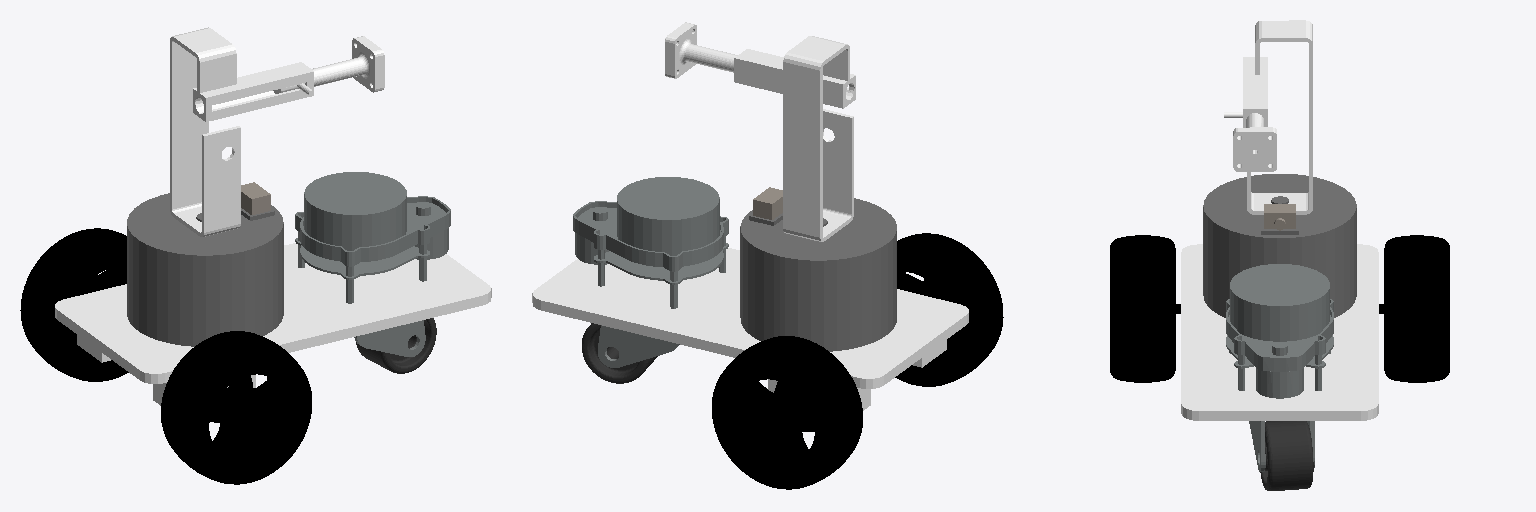
The robot description file, URDF, robot "robot1":
<?xml version="1.0" encoding="utf-8"?>
<robot
  name="robot1">

  <link name="extra_dummy_link"/>

  <joint name="extra_dummy_joint" type="fixed">
  <parent link="extra_dummy_link"/>
  <child link="base_link"/>
  <origin xyz="0 0 0.0508" rpy="0 0 0"/>
  </joint>

<!-- Mobile base -->
  <link
    name="base_link">
    <inertial>
      <origin
        xyz="-0.0298620435825472 8.64080561788216E-06 -0.0108665210140014"
        rpy="0 0 0" />
      <mass
        value="0.365881397075743" />
      <inertia
        ixx="7.80415881112915E-05"
        ixy="3.00753569781849E-08"
        ixz="-2.17816023522058E-07"
        iyy="0.000270323782878174"
        iyz="-3.13400981423434E-09"
        izz="0.000333087412608482" />
    </inertial>
    <visual>
      <origin
        xyz="0 0 0"
        rpy="0 0 0" />
      <geometry>
        <mesh
          filename="package://robot1/meshes/base_link.STL" />
      </geometry>
      <material
        name="">
        <color
          rgba="1 1 1 1" />
      </material>
    </visual>
    <collision>
      <origin
        xyz="0 0 0"
        rpy="0 0 0" />
      <geometry>
        <mesh
          filename="package://robot1/meshes/base_link.STL" />
      </geometry>
    </collision>
  </link>

<!-- Caster + Wheel (Rulet) -->
  <link
    name="caster_link">
    <inertial>
      <origin
        xyz="0.00353435792262703 0.000580919138614411 -0.00914170413115759"
        rpy="0 0 0" />
      <mass
        value="0.0373278893733052" />
      <inertia
        ixx="6.34052051313437E-06"
        ixy="-8.89075206723749E-08"
        ixz="8.09324702548451E-07"
        iyy="6.86663683226184E-06"
        iyz="1.33101469743785E-07"
        izz="8.38723331381204E-06" />
    </inertial>
    <visual>
      <origin
        xyz="0 0 0"
        rpy="0 0 0" />
      <geometry>
        <mesh
          filename="package://robot1/meshes/caster_link.STL" />
      </geometry>
      <material
        name="">
        <color
          rgba="0.529411764705882 0.549019607843137 0.549019607843137 1" />
      </material>
    </visual>
    <collision>
      <origin
        xyz="0 0 0"
        rpy="0 0 0" />
      <geometry>
        <mesh
          filename="package://robot1/meshes/caster_link.STL" />
      </geometry>
    </collision>
  </link>
  <joint
    name="caster_joint"
    type="continuous">
    <origin
      xyz="0.049 9.0753E-05 -0.011"
      rpy="0 0 0" />
    <parent
      link="base_link" />
    <child
      link="caster_link" />
    <axis
      xyz="0 0 -1" />
  </joint>
  <link
    name="rulet_link">
    <inertial>
      <origin
        xyz="0 -6.93889390390723E-18 1.38777878078145E-17"
        rpy="0 0 0" />
      <mass
        value="0.0131302037781976" />
      <inertia
        ixx="1.31770325266959E-06"
        ixy="9.96998354726138E-23"
        ixz="-1.84047686293049E-23"
        iyy="1.31770325266958E-06"
        iyz="2.44272019363628E-24"
        izz="1.89555098822309E-06" />
    </inertial>
    <visual>
      <origin
        xyz="0 0 0"
        rpy="0 0 0" />
      <geometry>
        <mesh
          filename="package://robot1/meshes/rulet_link.STL" />
      </geometry>
      <material
        name="">
        <color
          rgba="0.250980392156863 0.250980392156863 0.250980392156863 1" />
      </material>
    </visual>
    <collision>
      <origin
        xyz="0 0 0"
        rpy="0 0 0" />
      <geometry>
        <mesh
          filename="package://robot1/meshes/rulet_link.STL" />
      </geometry>
    </collision>
  </link>
  <joint
    name="rulet_joint"
    type="continuous">
    <origin
      xyz="0.015788 0.0025956 -0.023"
      rpy="1.5708 0 0.16294" />
    <parent
      link="caster_link" />
    <child
      link="rulet_link" />
    <axis
      xyz="0 0 -1" />
  </joint>

<!-- Left Wheel --> 
  <link
    name="left_link">
    <inertial>
      <origin
        xyz="-6.82531808848807E-12 6.88005347138088E-11 0.0103877723338401"
        rpy="0 0 0" />
      <mass
        value="0.0834294360956328" />
      <inertia
        ixx="3.2712132311779E-05"
        ixy="6.02378047625701E-14"
        ixz="1.89580639970994E-14"
        iyy="3.27121321133904E-05"
        iyz="-1.89505736704556E-14"
        izz="5.48272125754507E-05" />
    </inertial>
    <visual>
      <origin
        xyz="0 0 0"
        rpy="0 0 0" />
      <geometry>
        <mesh
          filename="package://robot1/meshes/left_link.STL" />
      </geometry>
      <material
        name="">
        <color
          rgba="0 0 0 1" />
      </material>
    </visual>
    <collision>
      <origin
        xyz="0 0 0"
        rpy="0 0 0" />
      <geometry>
        <mesh
          filename="package://robot1/meshes/left_link.STL" />
      </geometry>
    </collision>
  </link>
  <joint
    name="left_joint"
    type="continuous">
    <origin
      xyz="-0.0549999999999998 0.0726 -0.0162554009595454"
      rpy="1.5707963267949 0 0" />
    <parent
      link="base_link" />
    <child
      link="left_link" />
    <axis
      xyz="0 0 1" />
    <initial_velocity>0</initial_velocity>
  </joint>
  <transmission name="left_wheel_trans">
  <type>transmission_interface/SimpleTransmission</type>
  <joint name="left_joint">
    <hardwareInterface>hardware_interface/VelocityJointInterface</hardwareInterface>
  </joint>
  <actuator name="left_wheel_motor">
    <mechanicalReduction>1</mechanicalReduction>
  </actuator>
  </transmission>

<!-- Right wheel -->
  <link
    name="right_link">
    <inertial>
      <origin
        xyz="4.94592006239358E-11 -4.83102585713269E-11 -0.0103877723338401"
        rpy="0 0 0" />
      <mass
        value="0.0834294360956329" />
      <inertia
        ixx="3.27121322495845E-05"
        ixy="1.09995985592935E-13"
        ixz="2.95423069145671E-15"
        iyy="3.2712132175585E-05"
        iyz="-2.66421689998292E-14"
        izz="5.48272125754508E-05" />
    </inertial>
    <visual>
      <origin
        xyz="0 0 0"
        rpy="0 0 0" />
      <geometry>
        <mesh
          filename="package://robot1/meshes/right_link.STL" />
      </geometry>
      <material
        name="">
        <color
          rgba="0 0 0 1" />
      </material>
    </visual>
    <collision>
      <origin
        xyz="0 0 0"
        rpy="0 0 0" />
      <geometry>
        <mesh
          filename="package://robot1/meshes/right_link.STL" />
      </geometry>
    </collision>
  </link>
  <joint
    name="right_joint"
    type="continuous">
    <origin
      xyz="-0.055 -0.0726 -0.016255"
      rpy="1.5708 0 0" />
    <parent
      link="base_link" />
    <child
      link="right_link" />
    <axis
      xyz="0 0 -1" />
    <initial_velocity>0</initial_velocity>
  </joint>
  <transmission name="right_wheel_trans">
    <type>transmission_interface/SimpleTransmission</type>
    <joint name="right_joint">
      <hardwareInterface>hardware_interface/VelocityJointInterface</hardwareInterface>    
    </joint>
    <actuator name="right_wheel_motor">
      <mechanicalReduction>1</mechanicalReduction>
    </actuator>
  </transmission>

<!-- Lidar -->  
  <link
    name="lidar_link">
    <inertial>
      <origin
        xyz="0.0058059 0 -0.0059842"
        rpy="0 0 0" />
      <mass
        value="0.39247" />
      <inertia
        ixx="8.1635E-05"
        ixy="-1.0164E-20"
        ixz="2.4732E-05"
        iyy="0.00014378"
        iyz="1.3847E-20"
        izz="0.00016476" />
    </inertial>
    <visual>
      <origin
        xyz="0 0 0"
        rpy="0 0 0" />
      <geometry>
        <mesh
          filename="package://robot1/meshes/lidar_link.STL" />
      </geometry>
      <material
        name="grey">
        <color
          rgba="0.52941 0.54902 0.54902 1" />
      </material>
    </visual>
    <collision>
      <origin
        xyz="0 0 0"
        rpy="0 0 0" />
      <geometry>
        <mesh
          filename="package://robot1/meshes/lidar_link.STL" />
      </geometry>
    </collision>
</link>
<gazebo reference="lidar_link">
  <sensor type="ray" name="lidar_sensor">
    <pose>0 0 0 0 0 0</pose>
    <visualize>true</visualize>
    <update_rate>10</update_rate>
    <ray>
      <scan>
        <horizontal>
          <samples>360</samples>
          <resolution>1</resolution>
          <min_angle>-3.14</min_angle>
          <max_angle>3.14</max_angle>
        </horizontal>
      </scan>
      <range>
        <min>0.1</min>
        <max>10.0</max>
        <resolution>0.01</resolution>
      </range>
    </ray>
    <plugin name="lidar_controller" filename="libgazebo_ros_laser.so">
      <topicName>/scan</topicName>
      <frameName>lidar_link</frameName>
    </plugin>
  </sensor>
</gazebo>
  <joint
    name="lidar_joint"
    type="fixed">
    <origin
      xyz="0.0424999999999999 0 0.032375"
      rpy="0 0 0" />
    <parent
      link="base_link" />
    <child
      link="lidar_link" />
    <axis
      xyz="0 0 0" />
  </joint>

<!-- Arm Base -->
  <link
    name="armbase_link">
    <inertial>
      <origin
        xyz="2.10013101067386E-05 -4.16333634234434E-17 0.0225500566720555"
        rpy="0 0 0" />
      <mass
        value="0.159011168504656" />
      <inertia
        ixx="7.5535013890047E-05"
        ixy="0"
        ixz="-7.8309745818616E-08"
        iyy="7.56426845644754E-05"
        iyz="-3.51648936570463E-21"
        izz="9.73329690460078E-05" />
    </inertial>
    <visual>
      <origin
        xyz="0 0 0"
        rpy="0 0 0" />
      <geometry>
        <mesh
          filename="package://robot1/meshes/armbase_link.STL" />
      </geometry>
      <material
        name="">
        <color
          rgba="0.498039215686275 0.498039215686275 0.498039215686275 1" />
      </material>
    </visual>
    <collision>
      <origin
        xyz="0 0 0"
        rpy="0 0 0" />
      <geometry>
        <mesh
          filename="package://robot1/meshes/armbase_link.STL" />
      </geometry>
    </collision>
  </link>
  <joint
    name="armbase_joint"
    type="fixed">
    <origin
      xyz="-0.035 0 0"
      rpy="0 0 0" />
    <parent
      link="base_link" />
    <child
      link="armbase_link" />
    <axis
      xyz="0 0 0" />
  </joint>

<!-- Rotation Joint -->
  <link
    name="rotation_link">
    <inertial>
      <origin
        xyz="0 0 0.048795"
        rpy="0 0 0" />
      <mass
        value="0.012546" />
      <inertia
        ixx="8.8915E-06"
        ixy="2.5355E-08"
        ixz="-5.495E-08"
        iyy="9.0921E-06"
        iyz="-3.6563E-07"
        izz="2.7779E-06" />
    </inertial>
    <visual>
      <origin
        xyz="0 0 0"
        rpy="0 0 0" />
      <geometry>
        <mesh
          filename="package://robot1/meshes/rotation_link.STL" />
      </geometry>
      <material
        name="">
        <color
          rgba="1 1 1 1" />
      </material>
    </visual>
    <collision>
      <origin
        xyz="0 0 0"
        rpy="0 0 0" />
      <geometry>
        <mesh
          filename="package://robot1/meshes/rotation_link.STL" />
      </geometry>
    </collision>
  </link>
  <joint
    name="rotation_joint"
    type="revolute">
    <origin
      xyz="0 0 0.047032"
      rpy="0 0 0.15" />
    <parent
      link="armbase_link" />
    <child
      link="rotation_link" />
    <axis
      xyz="0 0 1" />
    <limit lower="-3.14159" upper="3.14159" effort="50" velocity="5" />
    <initial_position>0.0</initial_position>
    <dynamics damping="0.1" friction="0.5"/>
  </joint>
  <transmission name="rotation_trans">
  <type>transmission_interface/SimpleTransmission</type>
  <joint name="rotation_joint">
    <hardwareInterface>hardware_interface/PositionJointInterface</hardwareInterface>
  </joint>
  <actuator name="rotation_motor">
    <mechanicalReduction>1</mechanicalReduction>
  </actuator>
  </transmission>

<!-- Prismatic Joint/ End-effector -->
  <link
    name="ef_link">
    <inertial>
      <origin
        xyz="-0.000963414683980049 -0.000265306889802003 0.024942359177884"
        rpy="0 0 0" />
      <mass
        value="0.00564856244182241" />
      <inertia
        ixx="1.11277965550329E-06"
        ixy="2.21877074536859E-13"
        ixz="-1.93628728955165E-09"
        iyy="1.14644352103601E-06"
        iyz="-6.9640303161709E-09"
        izz="1.8743561435917E-07" />
    </inertial>
    <visual>
      <origin
        xyz="0 0 0"
        rpy="0 0 0" />
      <geometry>
        <mesh
          filename="package://robot1/meshes/ef_link.STL" />
      </geometry>
      <material
        name="">
        <color
          rgba="1 1 1 1" />
      </material>
    </visual>
    <collision>
      <origin
        xyz="0 0 0"
        rpy="0 0 0" />
      <geometry>
        <mesh
          filename="package://robot1/meshes/ef_link.STL" />
      </geometry>
    </collision>
  </link>
  <joint
    name="ef_joint"
    type="prismatic">
    <origin
      xyz="0.077472 -0.023121 0.062449"
      rpy="1.5708 0 1.4235" />
    <parent
      link="rotation_link" />
    <child
      link="ef_link" />
    <axis
      xyz="0 0 -1" />
    <initial_velocity>0</initial_velocity>
    <dynamics damping="0.1" friction="0.5"/>
    <limit lower="0.00" upper="0.03" effort="50" velocity="5" />  
  </joint>
  <transmission name="prismatic_trans">
  <type>transmission_interface/SimpleTransmission</type>
  <joint name="ef_joint">
    <hardwareInterface>hardware_interface/PositionJointInterface</hardwareInterface>
  </joint>
  <actuator name="prismatic_motor">
    <mechanicalReduction>1</mechanicalReduction>
  </actuator>
  </transmission>

<!-- Camera -->
  <link
    name="camera_link">
    <inertial>
      <origin
        xyz="0.000174192758615813 0 0"
        rpy="0 0 0" />
      <mass
        value="0.0121394336197084" />
      <inertia
        ixx="3.20489112300492E-07"
        ixy="-4.30133918527574E-23"
        ixz="3.06956707771848E-24"
        iyy="2.09515669482478E-07"
        iyz="-4.63246864128914E-23"
        izz="3.32296919982478E-07" />
    </inertial>
    <visual>
      <origin
        xyz="0 0 0"
        rpy="0 0 0" />
      <geometry>
        <mesh
          filename="package://robot1/meshes/camera_link.STL" />
      </geometry>
      <material
        name="">
        <color
          rgba="0.650980392156863 0.619607843137255 0.588235294117647 1" />
      </material>
    </visual>
    <collision>
      <origin
        xyz="0 0 0"
        rpy="0 0 0" />
      <geometry>
        <mesh
          filename="package://robot1/meshes/camera_link.STL" />
      </geometry>
    </collision>
</link>
  <gazebo reference="camera_link">
    <sensor type="camera" name="camera1">
      <update_rate>30.0</update_rate>
      <camera name="head">
        <horizontal_fov>1.3962634</horizontal_fov>
        <image>
          <width>800</width>
          <height>800</height>
          <format>R8G8B8</format>
        </image>
        <clip>
          <near>0.02</near>
          <far>300</far>
        </clip>
        <noise>
          <type>gaussian</type>
          <mean>0.0</mean>
          <stddev>0.007</stddev>
        </noise>
      </camera>
      <plugin name="camera_controller" filename="libgazebo_ros_camera.so">
        <alwaysOn>true</alwaysOn>
        <updateRate>30</updateRate>
        <cameraName>robot1/camera1</cameraName>
        <imageTopicName>image_raw</imageTopicName>
        <cameraInfoTopicName>camera_info</cameraInfoTopicName>
        <frameName>camera_link</frameName>
        <hackBaseline>0.07</hackBaseline>
        <distortionK1>0.0</distortionK1>
        <distortionK2>0.0</distortionK2>
        <distortionK3>0.0</distortionK3>
        <distortionT1>0.0</distortionT1>
        <distortionT2>0.0</distortionT2>
      </plugin>
    </sensor>
  </gazebo>
  <joint
    name="camera_joint"
    type="fixed">
    <origin
      xyz="0.0246094119548931 0 0.05"
      rpy="0 0 0" />
    <parent
      link="armbase_link" />
    <child
      link="camera_link" />
    <axis
      xyz="0 0 0" />
  </joint>

<!-- Differential Drive Controller for Mobile Controller -->
  <gazebo>
  <plugin name="differential_drive_controller" filename="libgazebo_ros_diff_drive.so">
    <!-- Plugin update rate in Hz -->
    <updateRate>20</updateRate>
    <!-- Name of left joint, defaults to `left_joint` -->
    <leftJoint>left_joint</leftJoint>

    <!-- Name of right joint, defaults to `right_joint` -->
    <rightJoint>right_joint</rightJoint>

    <!-- The distance from the center of one wheel to the other, in meters, defaults to 0.34 m -->
    <wheelSeparation>0.5380</wheelSeparation>

    <!-- Diameter of the wheels, in meters, defaults to 0.15 m -->
    <wheelDiameter>0.2410</wheelDiameter>

    <!-- Wheel acceleration, in rad/s^2, defaults to 0.0 rad/s^2 -->
    <wheelAcceleration>1.0</wheelAcceleration>

    <!-- Maximum torque which the wheels can produce, in Nm, defaults to 5 Nm -->
    <wheelTorque>20</wheelTorque>
    
    <!-- Topic to receive geometry_msgs/Twist message commands, defaults to `cmd_vel` -->
    <commandTopic>cmd_vel</commandTopic>

    <!-- Topic to publish nav_msgs/Odometry messages, defaults to `odom` -->
    <odometryTopic>odom</odometryTopic>

    <!-- Odometry frame, defaults to `odom` -->
    <odometryFrame>odom</odometryFrame>

    <!-- Robot frame to calculate odometry from, defaults to `base_footprint` -->
    <robotBaseFrame>base_link</robotBaseFrame>

    <!-- Set to true to publish transforms for the wheel links, defaults to false -->
    <publishWheelTF>true</publishWheelTF>

    <!-- Set to true to publish transforms for the odometry, defaults to true -->
    <publishOdom>true</publishOdom>

    <!-- Set to true to publish sensor_msgs/JointState on /joint_states for the wheel joints, defaults to false -->
    <publishWheelJointState>true</publishWheelJointState>

    <!-- Set to true to swap right and left wheels, defaults to true -->
    <legacyMode>false</legacyMode>

    <rosDebugLevel>INFO</rosDebugLevel>

    <publishOdomTF>true</publishOdomTF>

    <publishTf>true</publishTf>

    <odometrySource>encoder</odometrySource>

  </plugin>  
  </gazebo>

<!-- Gazebo ROS Control for Arm Controller-->  
  <gazebo>
  <plugin name="gazebo_ros_control" filename="libgazebo_ros_control.so">
    <robotNamespace>/</robotNamespace>
  </plugin>
  </gazebo>

</robot>

--- Render facts (derived) ---
3 views of the same robot in one strip: view 1: azimuth 30°, elevation 25°; view 2: azimuth 150°, elevation 25°; view 3: azimuth 270°, elevation 25° (orthographic).
Robot: robot1 — 11 links, 10 joints (1 revolute, 4 continuous, 1 prismatic, 4 fixed); root link extra_dummy_link; default pose: every joint at zero.
Visible links, largest first — view 1: base_link, armbase_link, right_link, rotation_link, lidar_link, left_link, ef_link, caster_link, rulet_link, camera_link; view 2: base_link, armbase_link, left_link, rotation_link, lidar_link, right_link, ef_link, caster_link, rulet_link, camera_link; view 3: base_link, armbase_link, lidar_link, right_link, left_link, rotation_link, rulet_link, ef_link, camera_link, caster_link.
Boxes of the visible links, box(x1,y1,x2,y2) form: base_link: box(55, 243, 491, 405); armbase_link: box(127, 193, 283, 346); right_link: box(161, 331, 311, 484); rotation_link: box(170, 27, 313, 236); lidar_link: box(295, 172, 450, 303); left_link: box(20, 228, 128, 381); ef_link: box(273, 36, 384, 96); caster_link: box(354, 320, 425, 356); rulet_link: box(356, 318, 436, 373); camera_link: box(241, 182, 270, 214); base_link: box(532, 248, 968, 410); armbase_link: box(740, 198, 896, 351); left_link: box(712, 336, 862, 489); rotation_link: box(734, 36, 855, 241); lidar_link: box(573, 177, 728, 308); right_link: box(895, 233, 1003, 386); ef_link: box(665, 22, 737, 78); caster_link: box(598, 325, 679, 367); rulet_link: box(582, 323, 657, 383); camera_link: box(753, 187, 782, 219); base_link: box(1181, 244, 1378, 420); armbase_link: box(1203, 174, 1356, 317); lidar_link: box(1226, 264, 1333, 398); right_link: box(1110, 235, 1180, 382); left_link: box(1379, 235, 1449, 382); rotation_link: box(1243, 20, 1312, 214); rulet_link: box(1260, 421, 1313, 490); ef_link: box(1224, 112, 1276, 171); camera_link: box(1264, 204, 1295, 230); caster_link: box(1249, 421, 1314, 471).
Size in the robot's own frame: 0.18 by 0.1552 by 0.1839 metres.
10 mesh visuals loaded from 10 distinct referenced files (10 binary STL).
